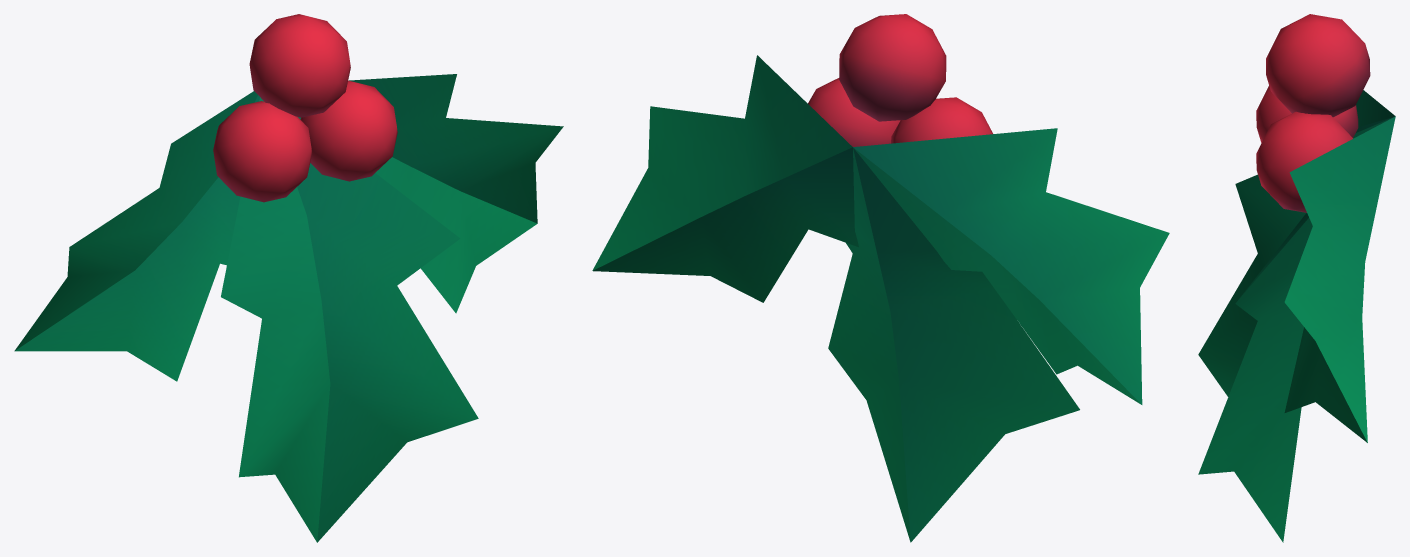
Rendered from mistletoe_A.fbx.
The picture shows the model from 3 angles, left to right: view 1: azimuth 30°, elevation 25°; view 2: azimuth 150°, elevation 25°; view 3: azimuth 270°, elevation 25°; orthographic projection. The views are drawn at different scales.
Visible parts, largest first — view 1: mistletoe_A; view 2: mistletoe_A; view 3: mistletoe_A.
Part boxes in pixels (x1,y1,x2,y2): mistletoe_A: (14, 14, 563, 542); mistletoe_A: (592, 14, 1169, 542); mistletoe_A: (1198, 14, 1395, 542).
Bounding box in the file's own units: 73.36 × 68.54 × 23.42.
